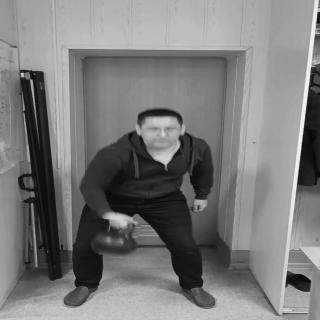kettlebell: (89, 220, 141, 257)
